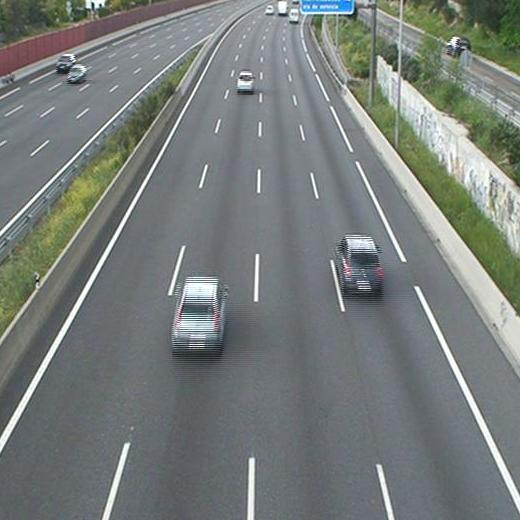car: (169, 278, 228, 358), (335, 234, 385, 302), (236, 70, 255, 94)
